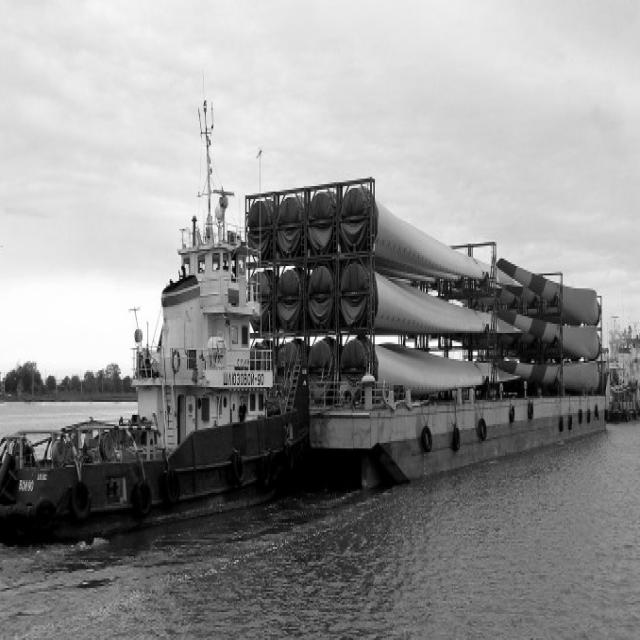tugboat: (1, 179, 313, 557)
